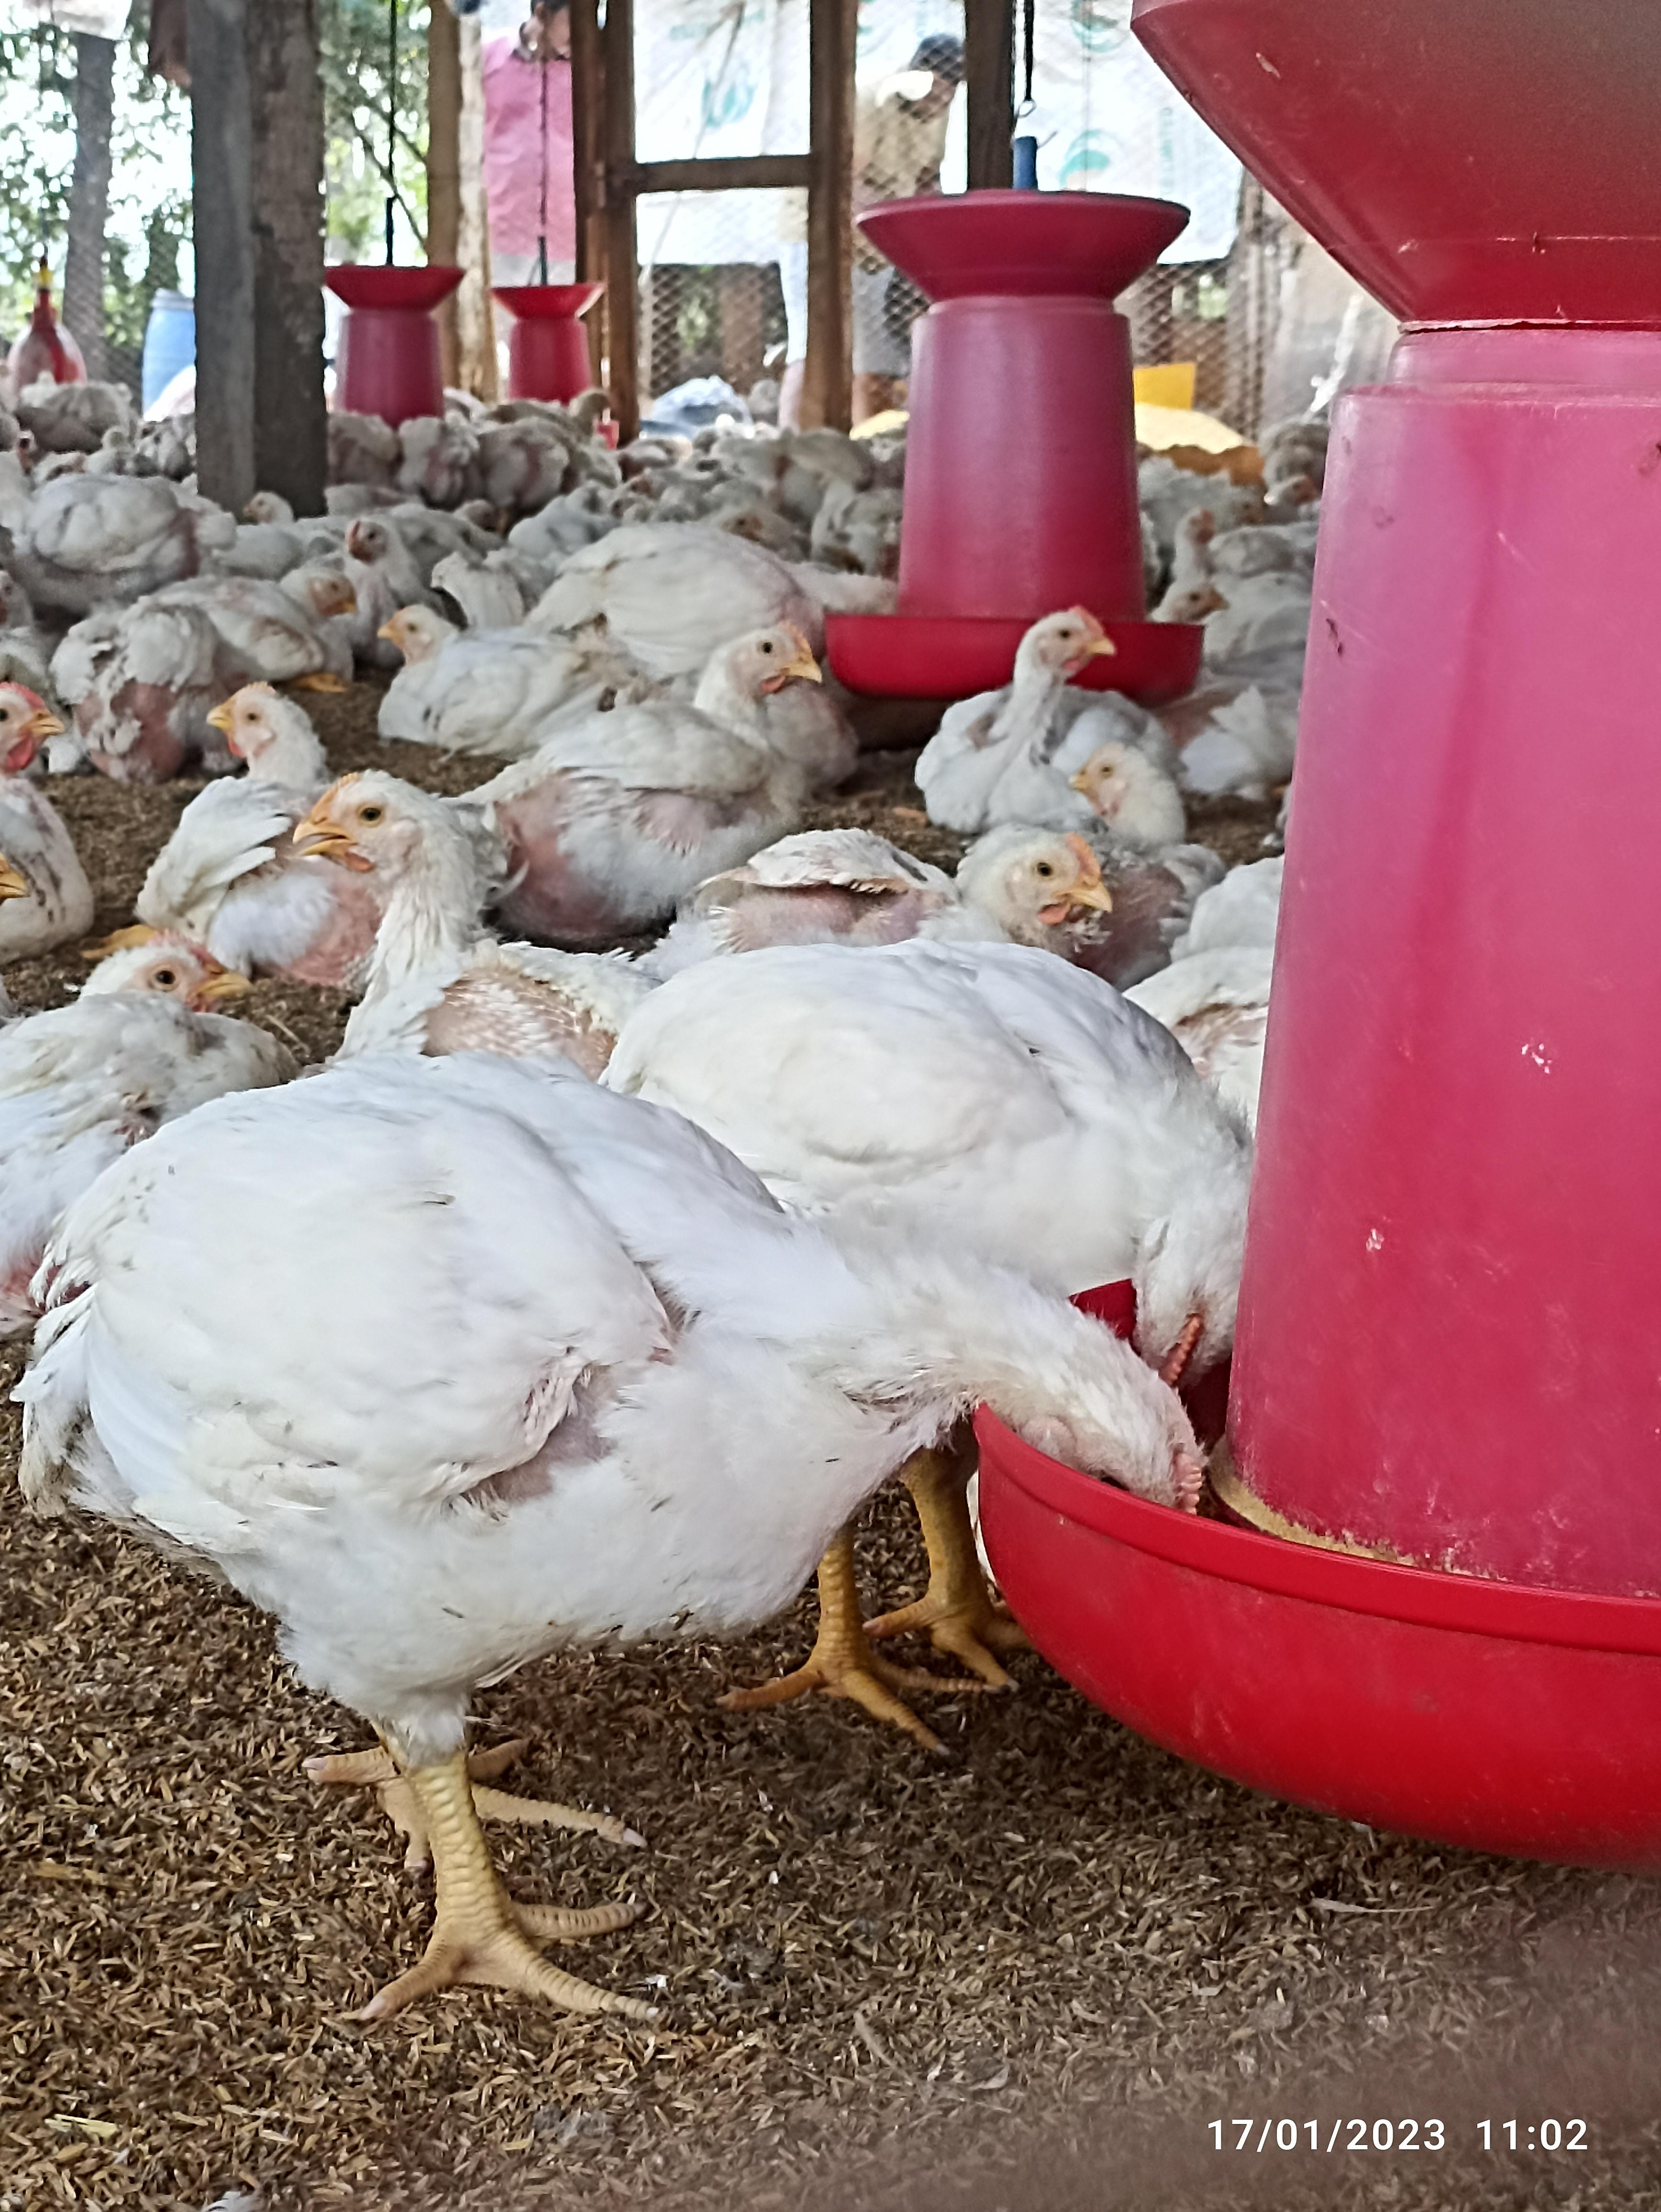Pollos: (56, 1066, 1220, 1676), (673, 820, 1179, 1272), (305, 782, 626, 1055), (0, 918, 316, 1178), (548, 611, 815, 832), (926, 600, 1176, 816), (373, 604, 548, 748), (171, 691, 338, 823), (161, 556, 345, 672)
